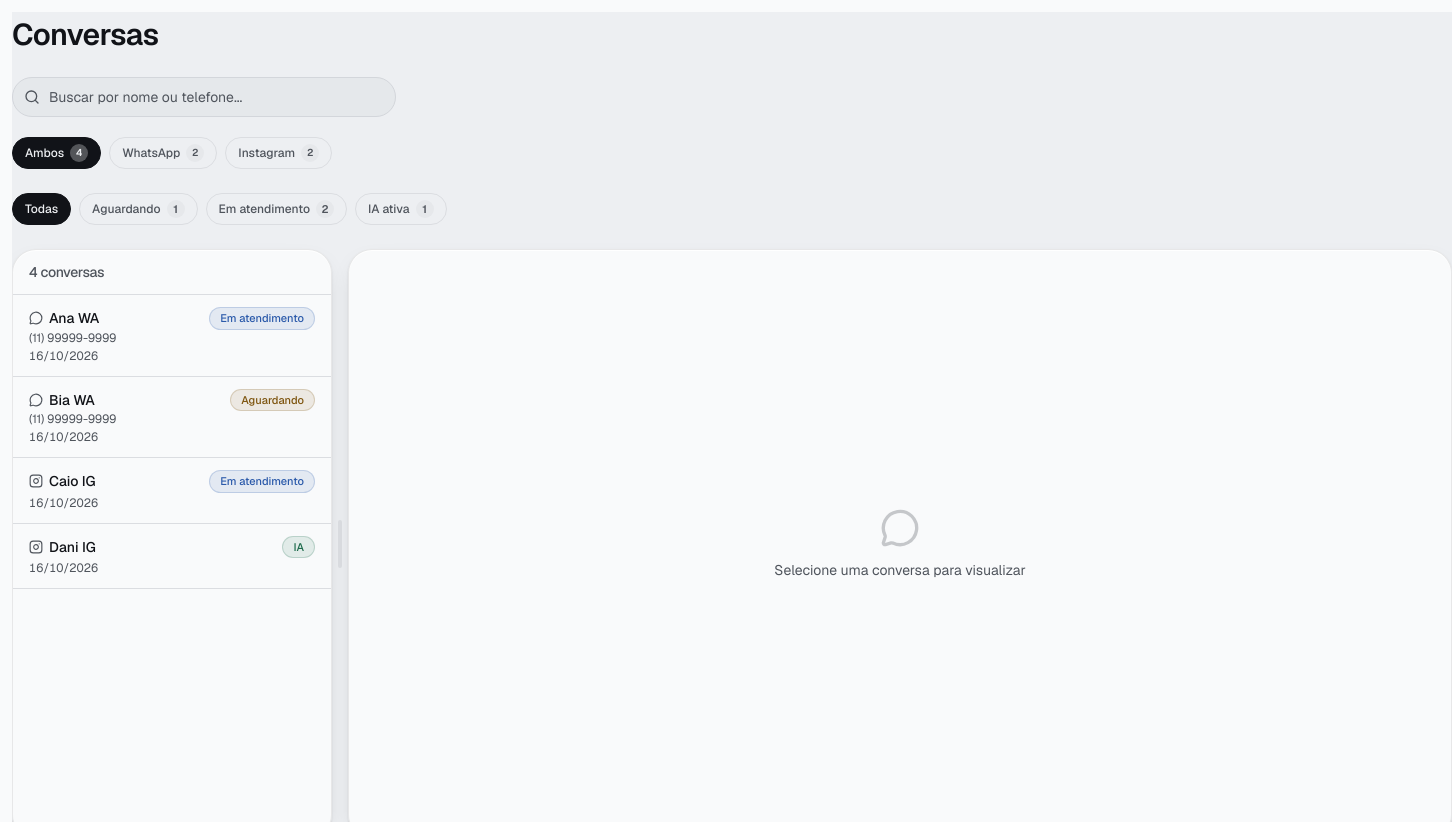
Test: Conversas por canal: filtro e contagens › localStorage que lança não quebra a tela
Click the button with test id "channel-chip-instagram". click: {"x": 279, "y": 153}
box: top-left (225, 137), bottom-right (332, 169)
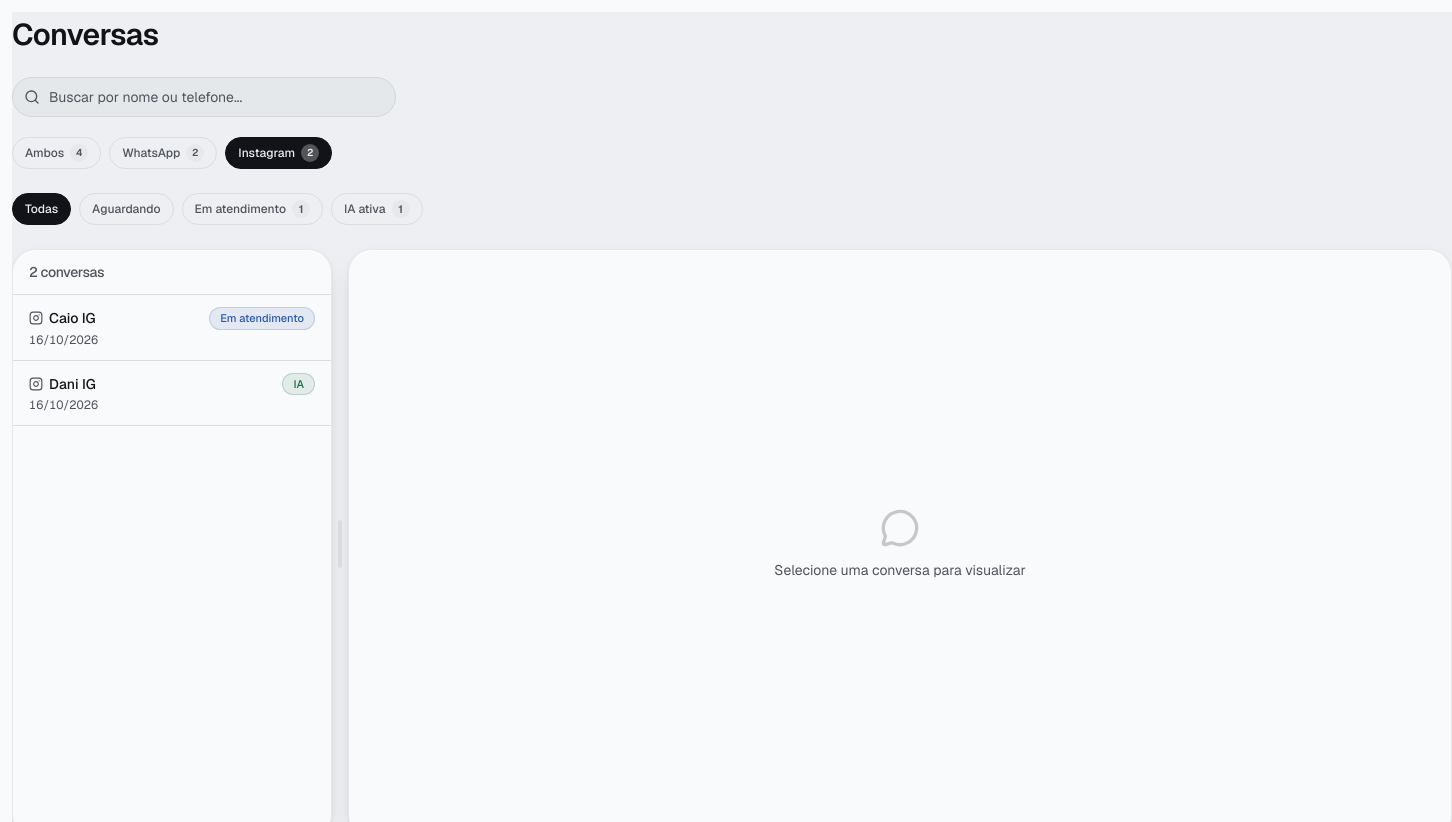
Expected: the text "Caio IG" is shown, top-left (49, 308), bottom-right (96, 328)
Expected: the button "Ana WA" is gone
